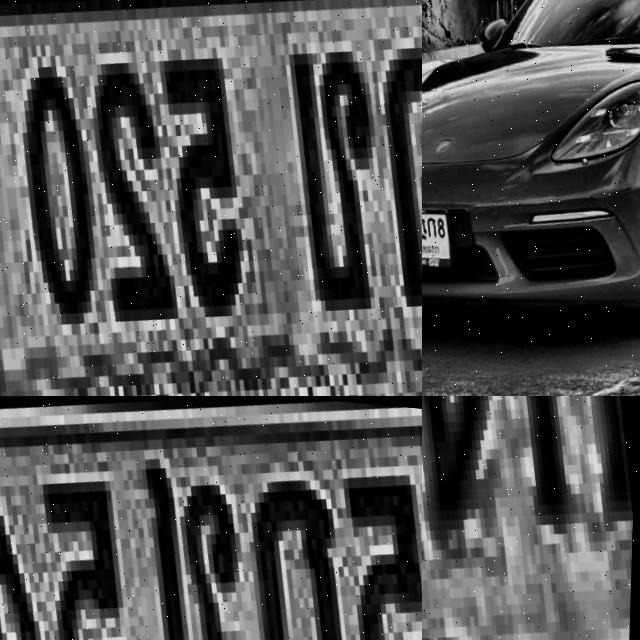license-plate: (0, 0, 422, 396), (0, 396, 422, 640), (422, 396, 640, 640), (422, 196, 462, 277)
